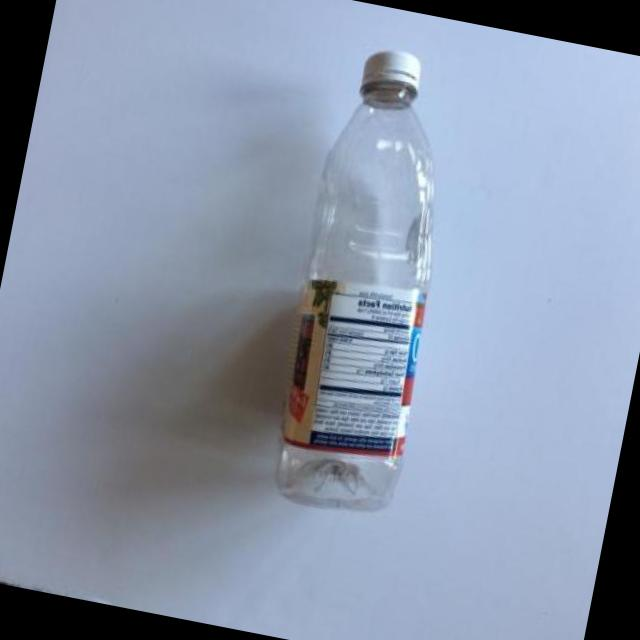BotolPlastik: (258, 38, 482, 522)
